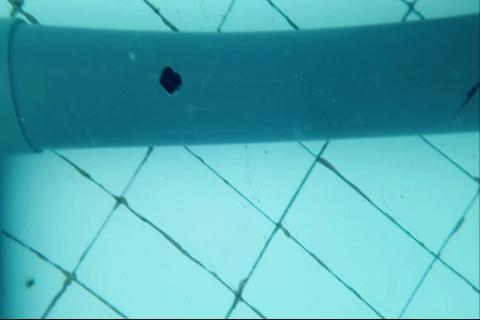kebocoran: (159, 65, 184, 97)
keretakan: (458, 78, 480, 113)
